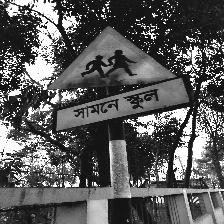School-in-front: (47, 25, 192, 133)
